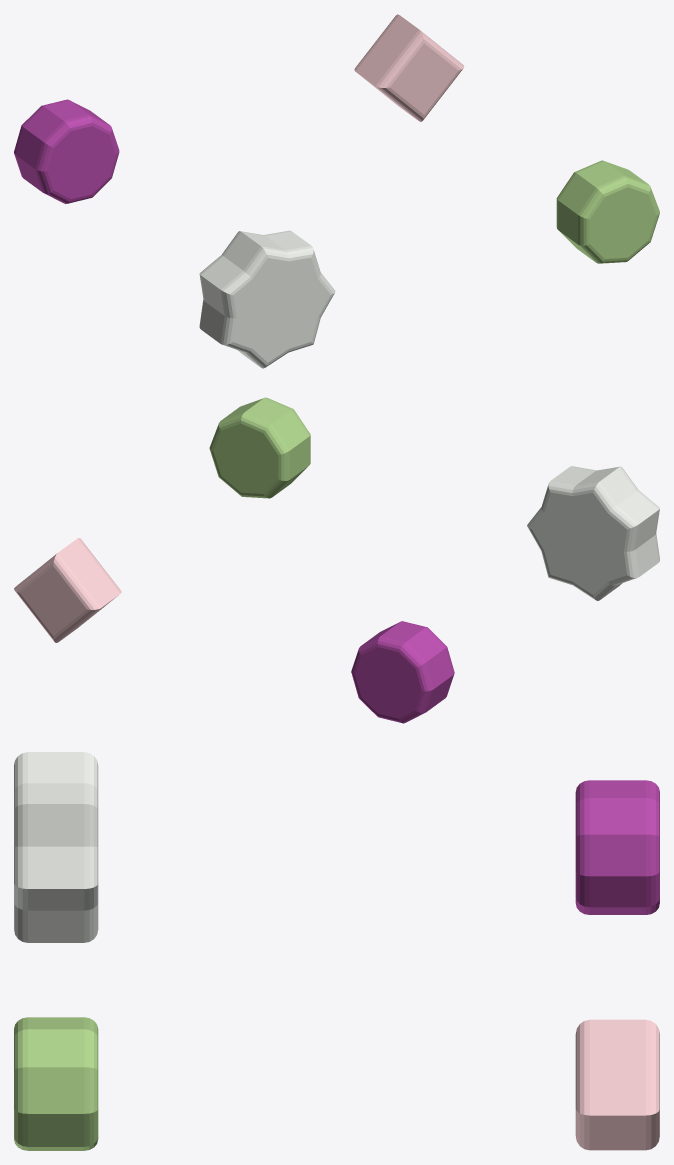
The model's file is Phong Normal Mapped_Linear_2023-07-23-20-47-45.gltf.
3 renders of one model, top to bottom at view 1: azimuth 30°, elevation 25°; view 2: azimuth 150°, elevation 25°; view 3: azimuth 270°, elevation 25°, orthographic. The views are drawn at different scales.
Bounding box in the file's own units: 257 × 67.85 × 230.
